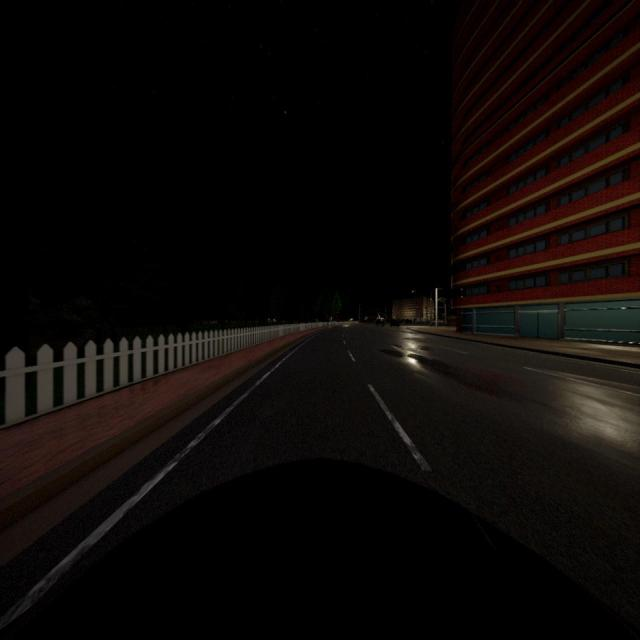Pedestrian: (381, 318, 385, 328), (376, 318, 380, 327)
Vehicle: (0, 454, 640, 640), (390, 319, 401, 328)
